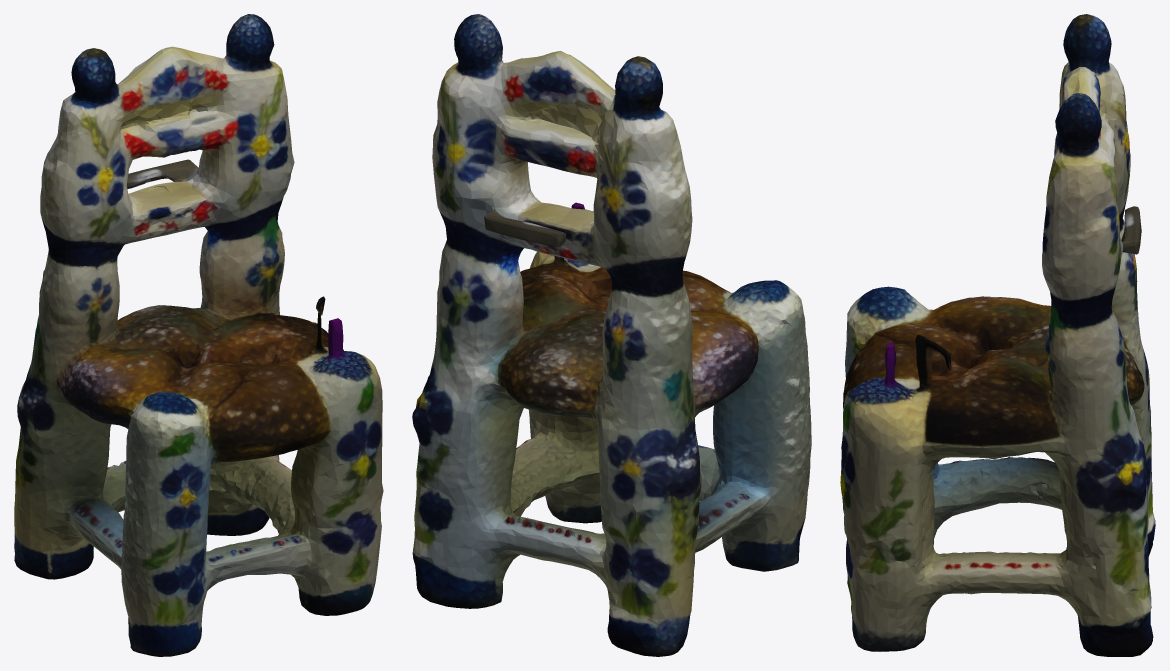
The model's file is deskchair.glb.
3 views of the same model, side by side, from view 1: azimuth 30°, elevation 25°; view 2: azimuth 150°, elevation 25°; view 3: azimuth 270°, elevation 25° (orthographic). The views are drawn at different scales.
Visible parts, largest first — view 1: world; view 2: world; view 3: world.
Boxes of the visible parts, left/top/right/bottom form: world: left=14, top=14, right=383, bottom=656; world: left=412, top=14, right=811, bottom=656; world: left=840, top=14, right=1155, bottom=656.
Bounding box in the file's own units: 0.513 × 1 × 0.5203.
1 material, 1 textured.
